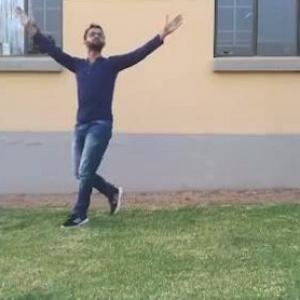takeoff: (24, 14, 181, 230)
